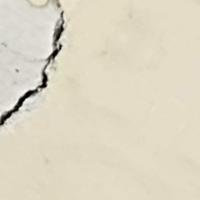crack: (1, 1, 80, 128)
